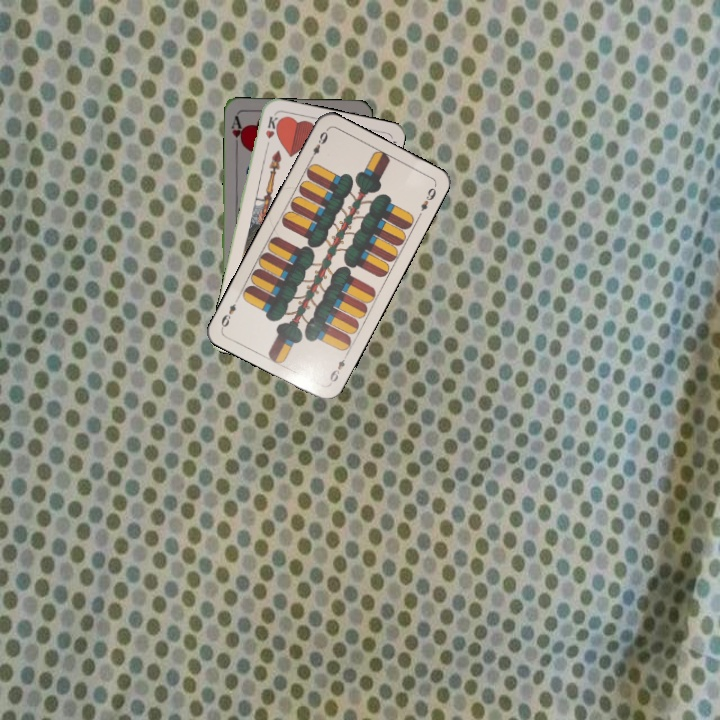E9: (306, 127, 331, 163), (326, 349, 350, 384)
HA: (227, 112, 247, 153)
HK: (261, 112, 281, 152)
